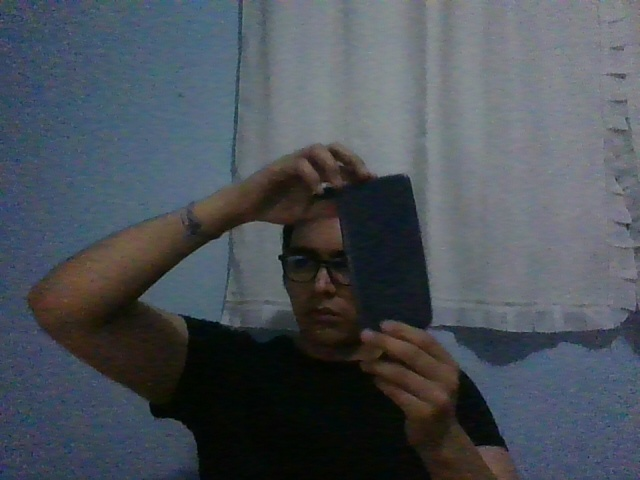calculadora: (335, 175, 433, 334)
